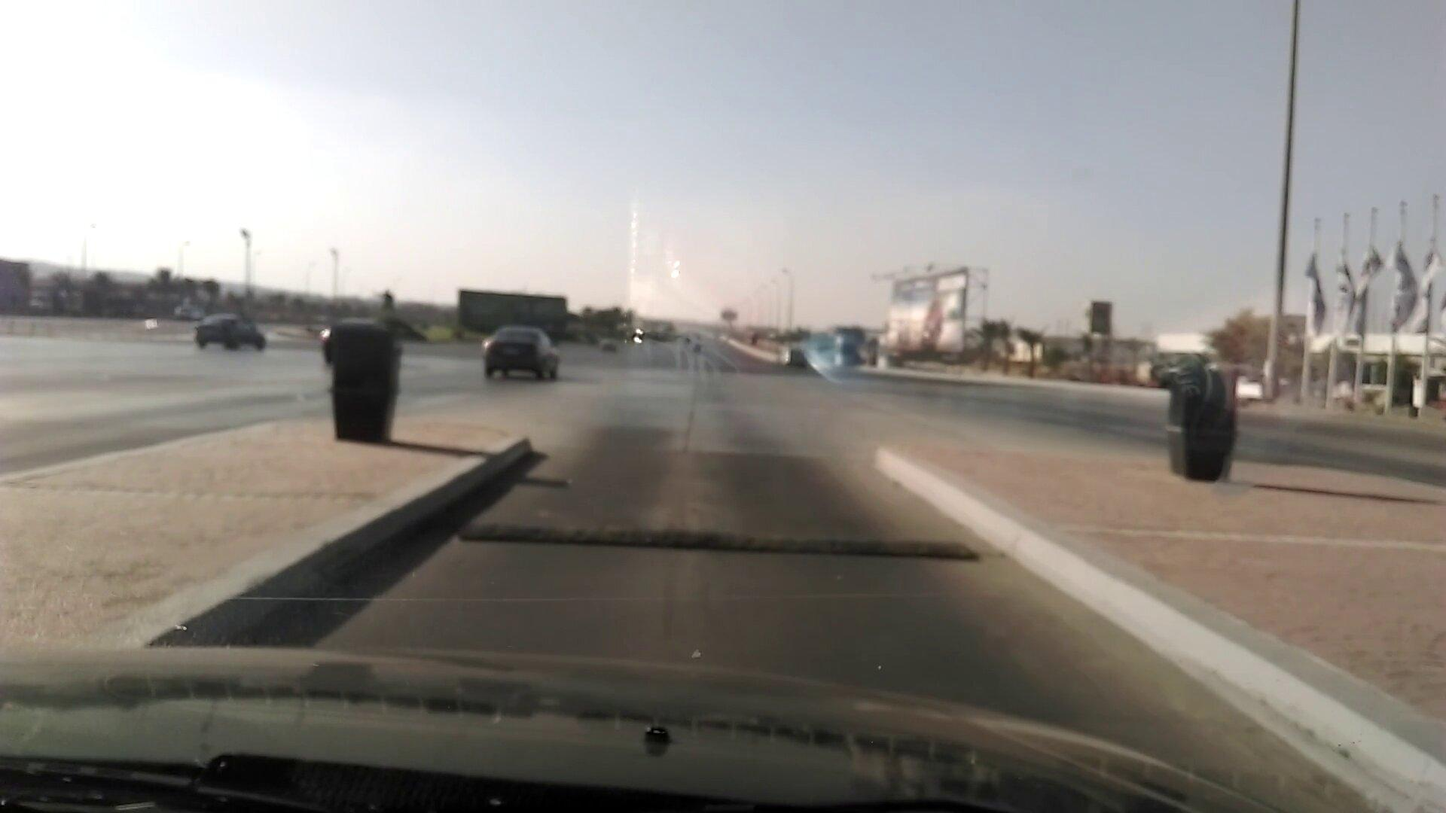Bump: (467, 512, 973, 570)
